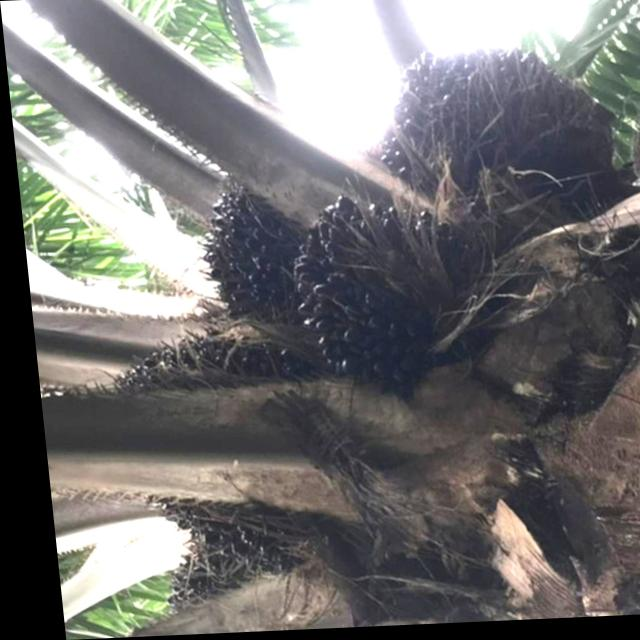almost: (262, 180, 473, 406)
